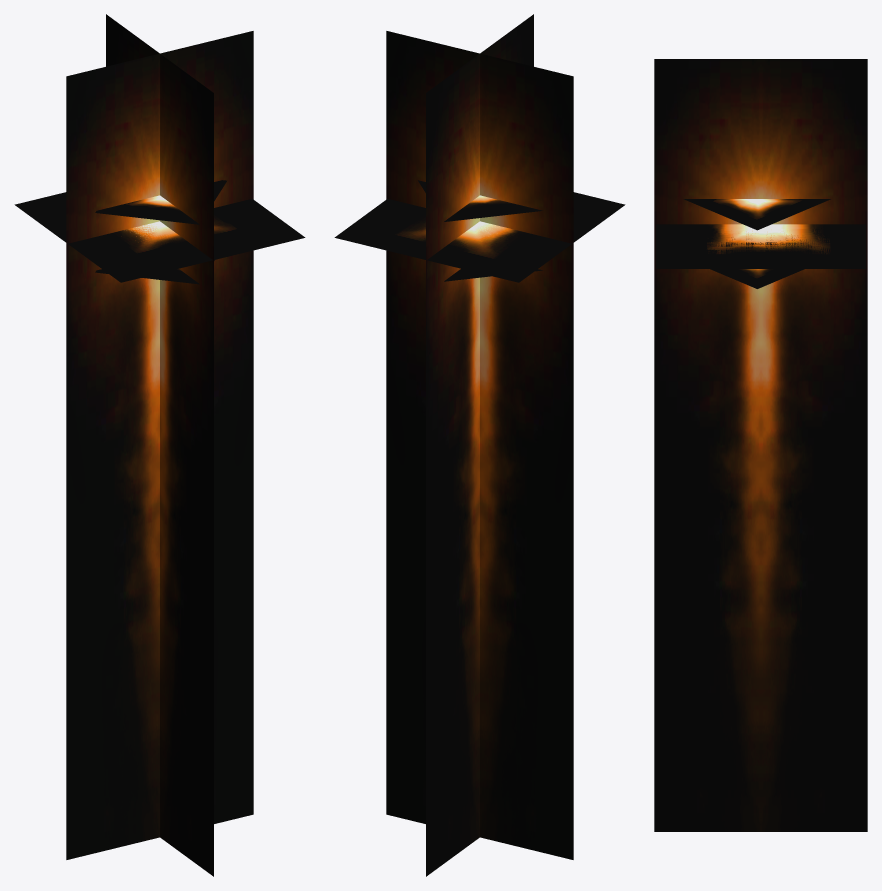
The model's file is TestShot1.fbx.
3 renders of one model, left to right at view 1: azimuth 30°, elevation 25°; view 2: azimuth 150°, elevation 25°; view 3: azimuth 270°, elevation 25°, orthographic.
Visible parts, largest first — view 1: PlasmaShot; view 2: PlasmaShot; view 3: PlasmaShot.
Part boxes in pixels (x1=…): PlasmaShot: x1=14, y1=14, x2=305, y2=876; PlasmaShot: x1=334, y1=14, x2=625, y2=876; PlasmaShot: x1=654, y1=59, x2=867, y2=831.
Size of the model in its own units: 2 by 8 by 2.
